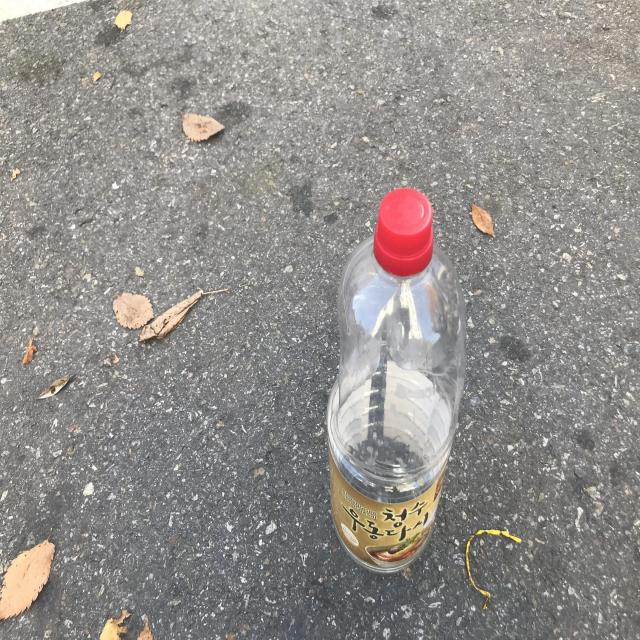plastic: (327, 188, 466, 573)
